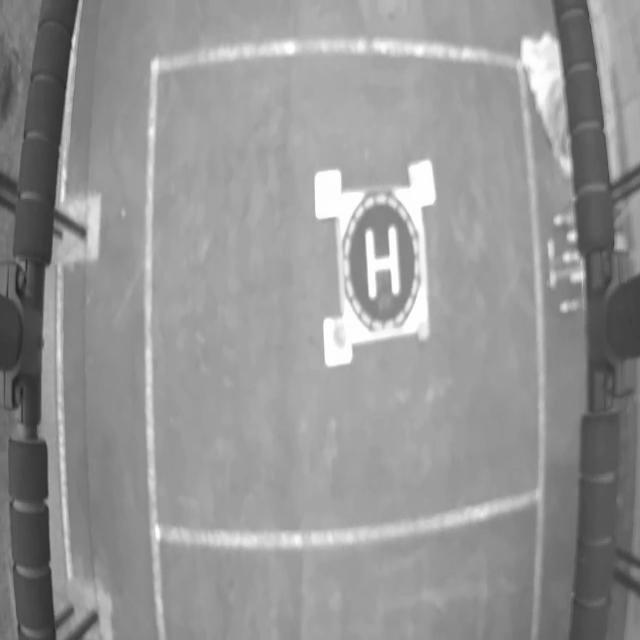Helipad: (365, 226, 401, 300)
